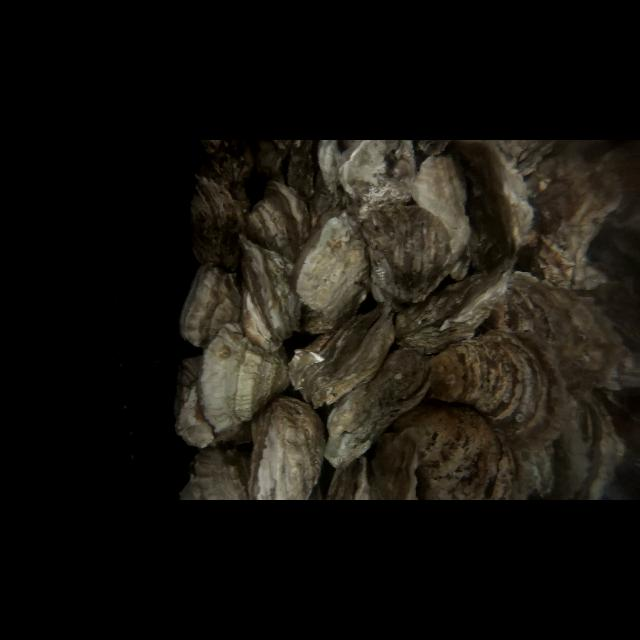Oyster-Closed: (505, 264, 639, 396), (325, 347, 433, 468), (395, 254, 517, 356), (288, 302, 396, 410), (392, 402, 500, 500), (531, 177, 623, 289), (432, 336, 544, 426), (201, 323, 289, 433), (292, 212, 366, 332), (476, 146, 550, 266), (362, 204, 450, 304), (249, 396, 325, 499), (239, 234, 299, 350), (570, 392, 626, 501), (414, 154, 470, 258), (165, 352, 219, 458), (341, 140, 414, 208), (179, 266, 237, 350), (190, 178, 242, 268), (249, 180, 311, 252), (356, 432, 416, 501), (174, 456, 250, 500), (508, 436, 560, 500), (207, 140, 257, 193), (320, 464, 358, 501), (315, 140, 337, 194)
Oyster-Open: (482, 429, 524, 499), (266, 148, 316, 194)
